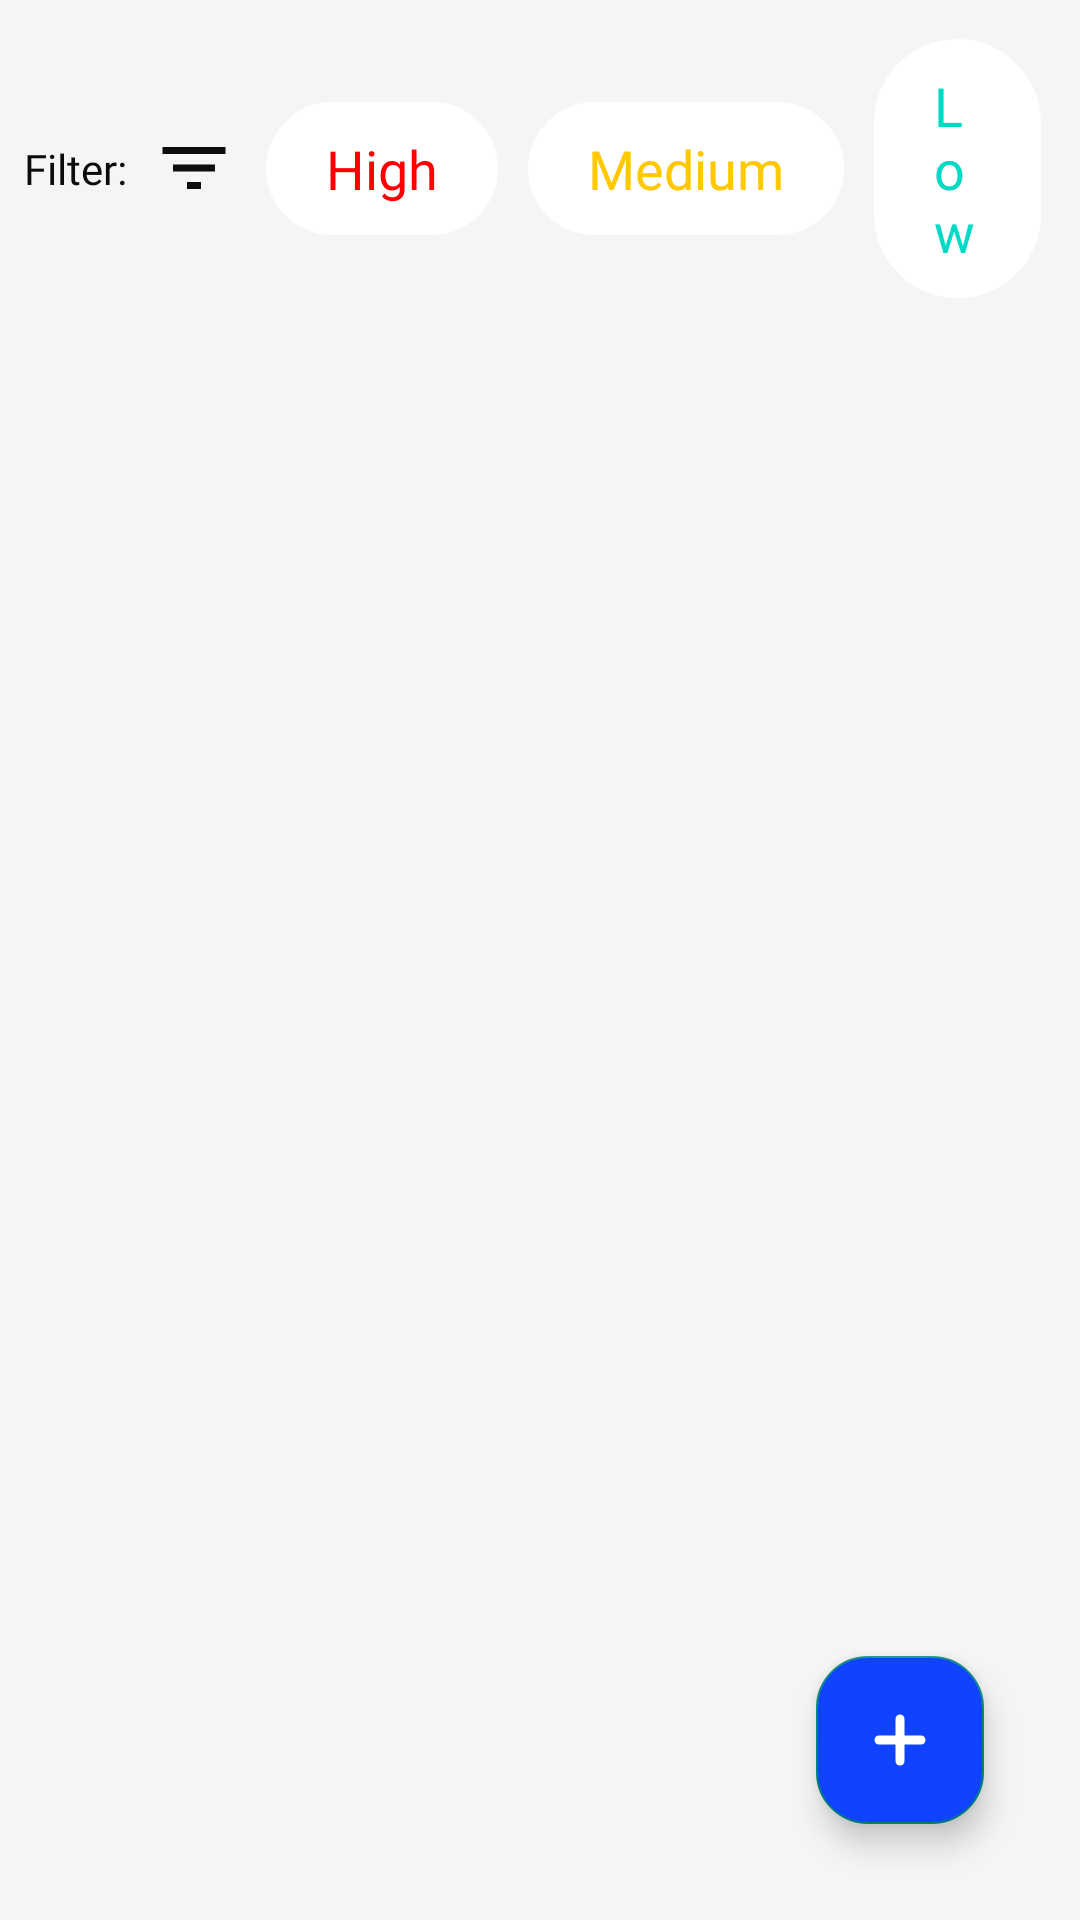

Icons on this 1080 x 1920 Android screen, each with the point to tap as (x,y):
create meeting: (900,1740)
